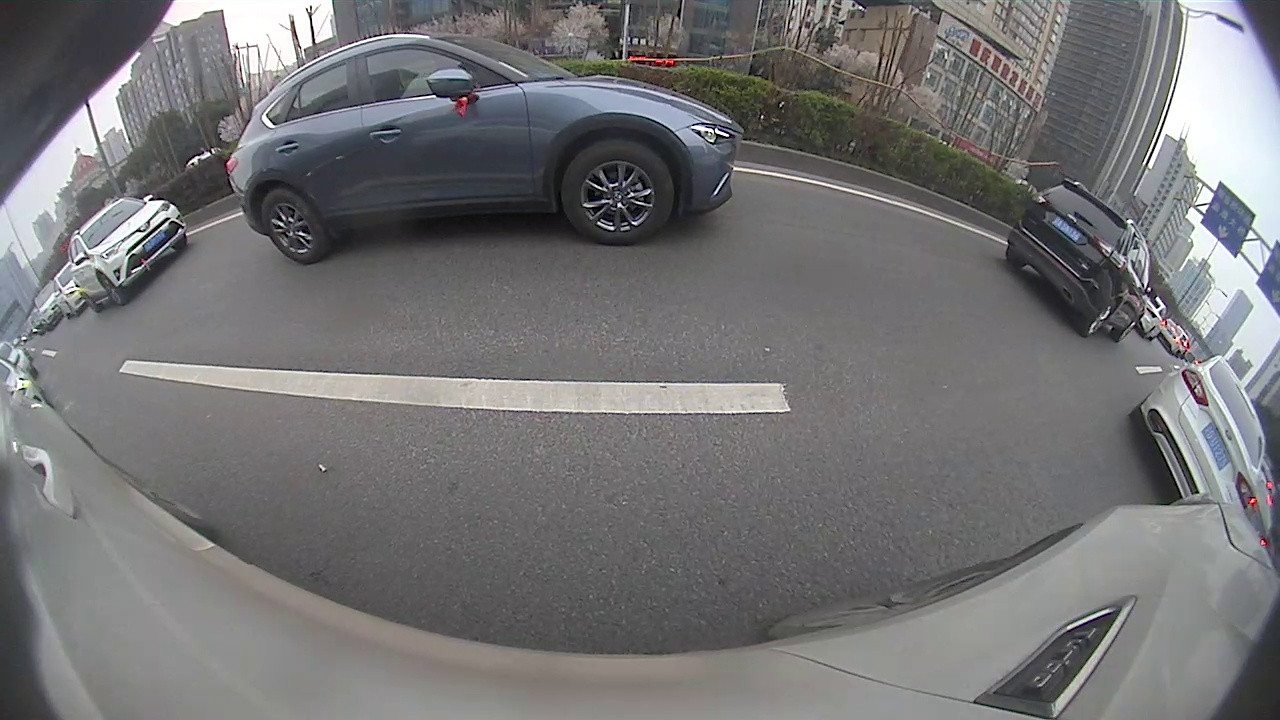car: (975, 209, 1245, 381), (789, 150, 912, 222), (923, 183, 1030, 236), (1214, 338, 1279, 412), (902, 177, 958, 215), (754, 159, 791, 192)
front: (1211, 356, 1247, 405), (978, 227, 1013, 270), (925, 209, 943, 231), (784, 182, 797, 203)
rear: (1125, 302, 1177, 366), (824, 185, 842, 213)
